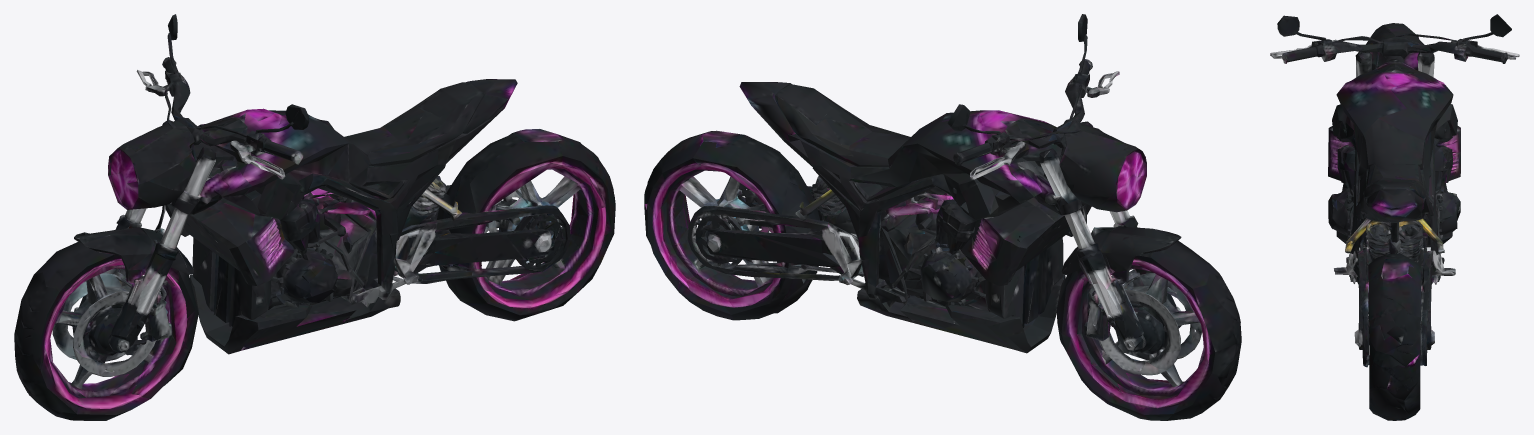
The model's file is mx_cyber_bike.glb.
3 renders of one model, left to right at view 1: azimuth 30°, elevation 25°; view 2: azimuth 150°, elevation 25°; view 3: azimuth 270°, elevation 25°, orthographic. The views are drawn at different scales.
Bounding box in the file's own units: 1.9 × 1 × 0.8139.
Materials: 1 (1 with a texture image).
